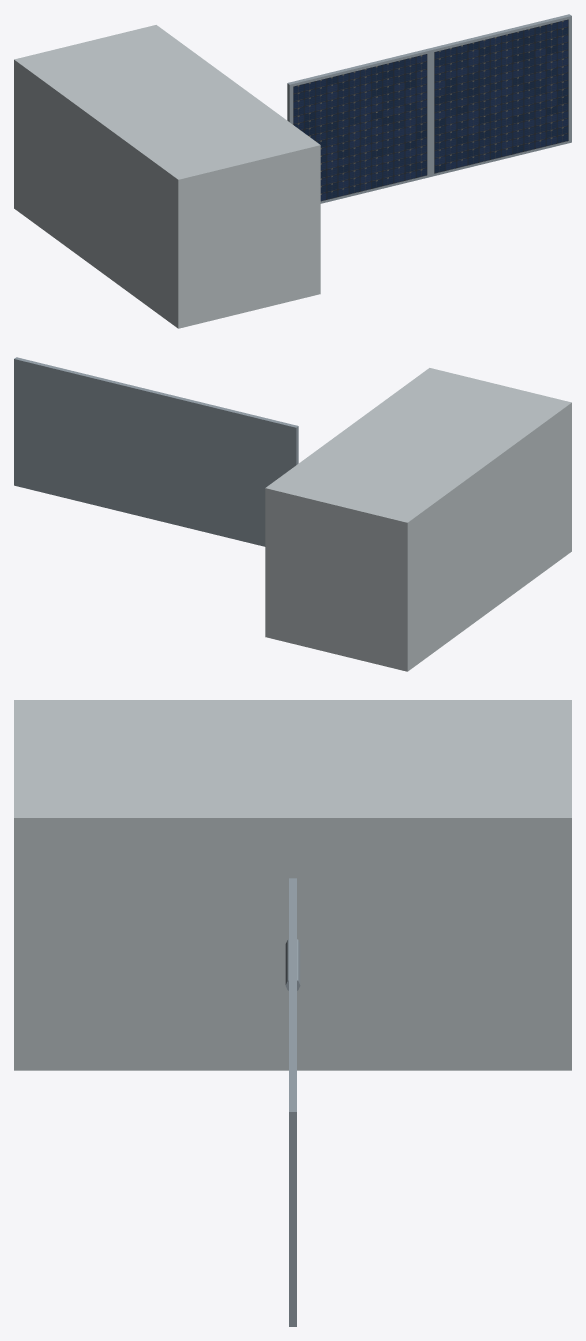
The model's file is ref-astrosat-100-39160.glb.
The picture shows the model from 3 angles, top to bottom: view 1: azimuth 30°, elevation 25°; view 2: azimuth 150°, elevation 25°; view 3: azimuth 270°, elevation 25°; orthographic projection. The views are drawn at different scales.
Visible parts, largest first — view 1: Spacecraft body, Photovoltaic laminates (×2), Array frame (×2); view 2: Spacecraft body, Array frame (×2); view 3: Spacecraft body, Array frame (×2).
Part boxes in pixels (box(x1,y1,x2,y2)): Spacecraft body: box(14, 25, 320, 328); Photovoltaic laminates (×2): box(293, 19, 568, 201); Array frame (×2): box(287, 14, 571, 203); Spacecraft body: box(265, 368, 571, 671); Array frame (×2): box(14, 357, 298, 546); Spacecraft body: box(14, 700, 571, 1070); Array frame (×2): box(289, 878, 296, 1326).
Size of the model in its own units: 2 by 0.6 by 1.2.
3 materials, 1 textured.
